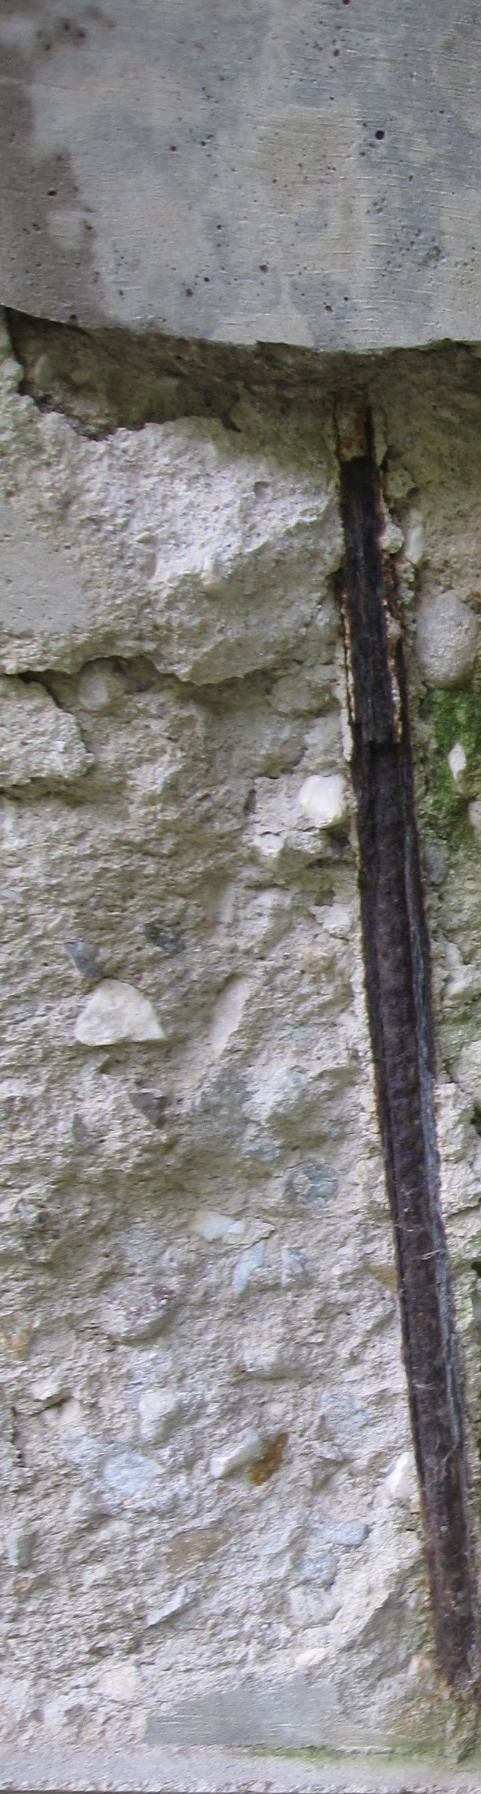Exposed reinforcement: (332, 455, 481, 1686)
Spalling: (1, 301, 481, 1794)
